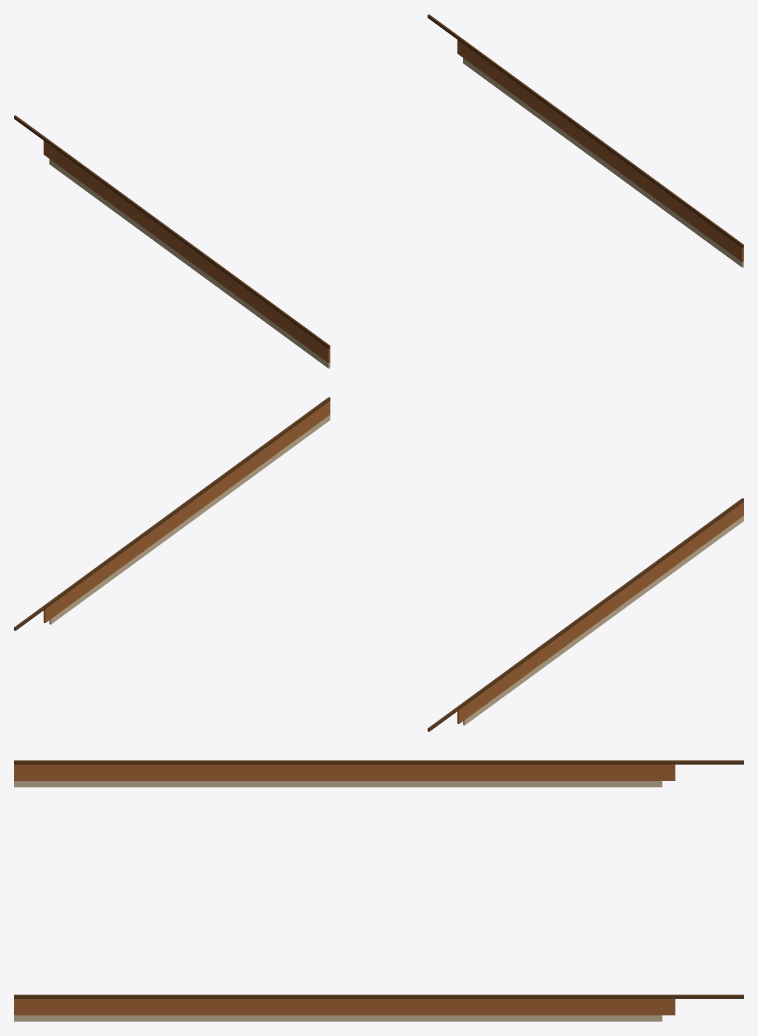
The model's file is stripe_retro3.glb.
3 renders of one model, top to bottom at view 1: azimuth 30°, elevation 25°; view 2: azimuth 150°, elevation 25°; view 3: azimuth 270°, elevation 25°, orthographic. The views are drawn at different scales.
Parts seen in each view (by area): view 1: b-11_0, b11_0, b-12_0, b12_0, b-10_0, b10_0; view 2: b11_0, b-11_0, b12_0, b-12_0, b-10_0, b10_0; view 3: b-11_0, b11_0, b12_0, b-12_0, b-10_0, b10_0.
Boxes of the visible parts, bbox=[...] form: b-11_0: bbox=[43, 141, 330, 362]; b11_0: bbox=[457, 40, 743, 261]; b-12_0: bbox=[49, 159, 330, 368]; b12_0: bbox=[463, 58, 743, 267]; b-10_0: bbox=[14, 115, 330, 348]; b10_0: bbox=[427, 14, 743, 247]; b11_0: bbox=[43, 401, 330, 622]; b-11_0: bbox=[457, 502, 743, 723]; b12_0: bbox=[49, 415, 330, 624]; b-12_0: bbox=[463, 516, 743, 725]; b-10_0: bbox=[427, 498, 743, 731]; b10_0: bbox=[14, 397, 330, 630]; b-11_0: bbox=[14, 764, 675, 780]; b11_0: bbox=[14, 999, 675, 1015]; b12_0: bbox=[14, 1015, 662, 1021]; b-12_0: bbox=[14, 781, 662, 787]; b-10_0: bbox=[14, 760, 743, 764]; b10_0: bbox=[14, 994, 743, 998].
Size of the model in its own units: 1.43 by 0.0741 by 1.87.
